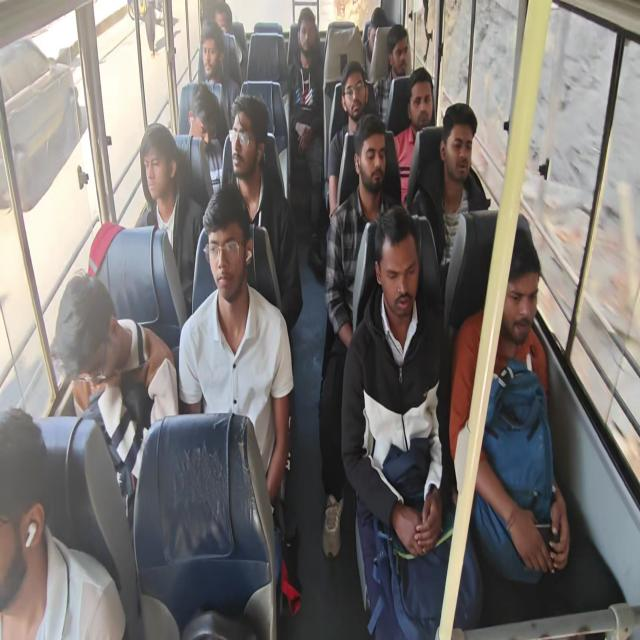person: (340, 204, 484, 638), (449, 212, 570, 584), (318, 112, 402, 560), (178, 185, 294, 505), (51, 269, 178, 517), (0, 406, 126, 639), (202, 92, 303, 335), (138, 122, 204, 314), (409, 102, 480, 270), (287, 6, 325, 272), (327, 60, 371, 218), (392, 67, 435, 205), (199, 20, 240, 144), (187, 82, 223, 194), (374, 24, 409, 120), (213, 1, 243, 85), (187, 82, 219, 143), (365, 7, 389, 64)
